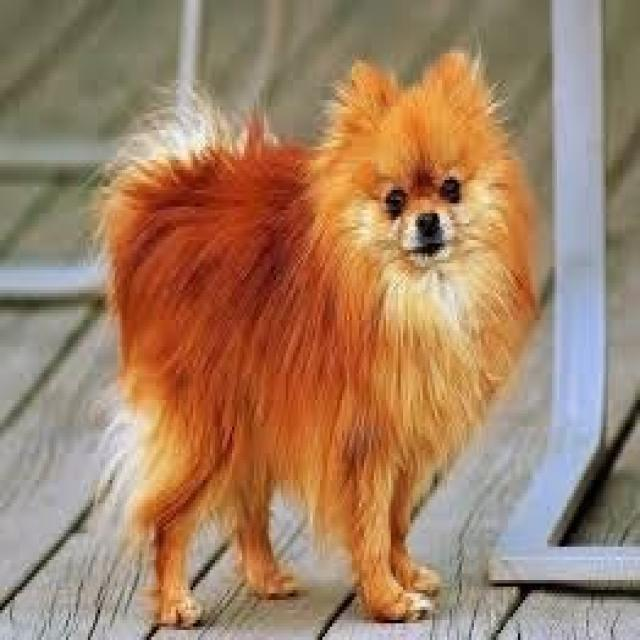adult_dog: (83, 39, 548, 630)
